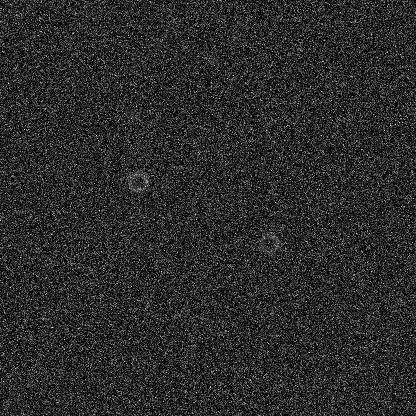Ring: (126, 169, 150, 193), (257, 231, 281, 255)
Spot: (203, 50, 219, 66), (320, 317, 336, 333), (228, 27, 244, 43), (125, 106, 141, 122)
